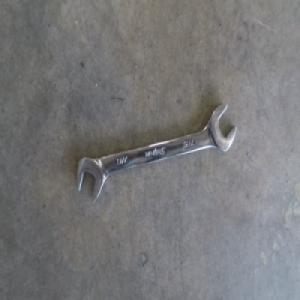Wrench: (79, 104, 235, 201)
